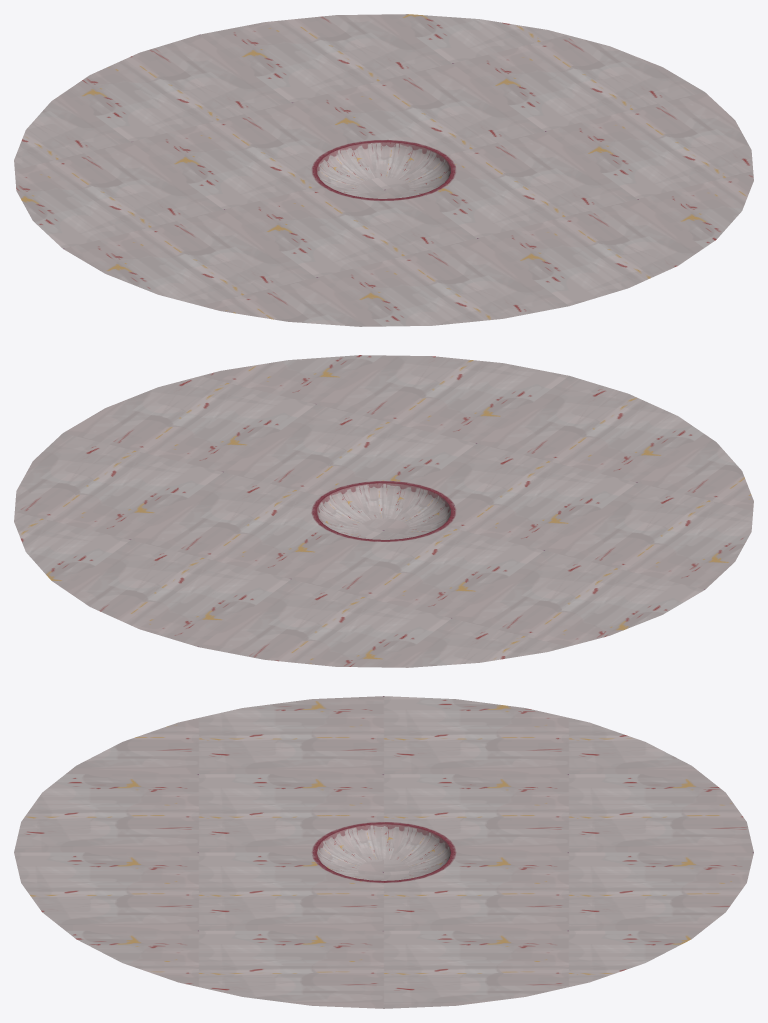
File: floor_01.FBX
3 renders of one model, top to bottom at view 1: azimuth 30°, elevation 25°; view 2: azimuth 150°, elevation 25°; view 3: azimuth 270°, elevation 25°, orthographic.
Parts seen in each view (by area): view 1: floor_01; view 2: floor_01; view 3: floor_01.
Part boxes in pixels (x1,y1,x2,y2): floor_01: (14,14,753,326); floor_01: (14,355,753,667); floor_01: (14,696,753,1008).
Bounding box in the file's own units: 1079 × 31.19 × 1079.
